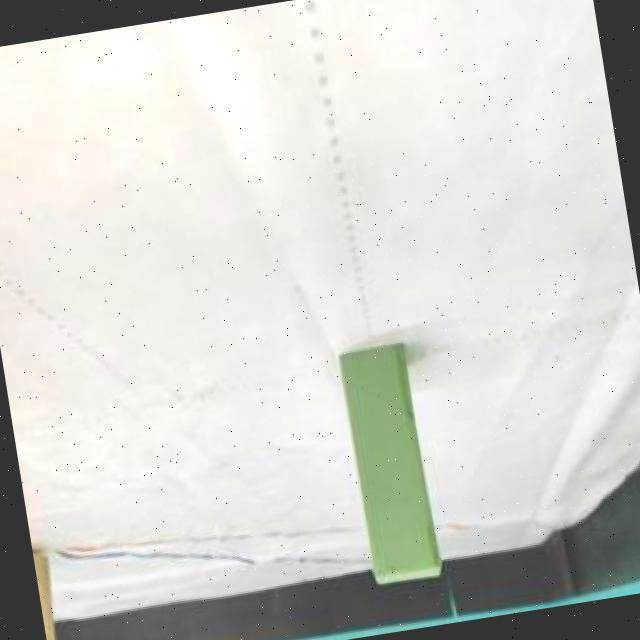greenbox: (334, 339, 444, 591)
